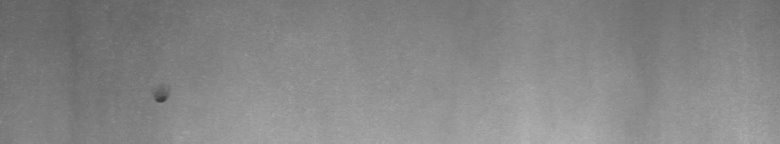fi: (152, 92, 172, 112)
